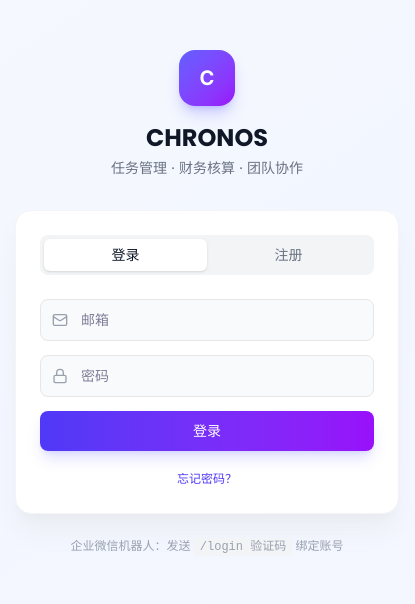
Scenario: LoginPage · 注册模式真实校验 › 用户名单字符 → 拦截
The width and height of the screenshot is (415, 604).
Click the button "注册" at (288, 254), box x1=207 y1=238 x2=370 y2=270
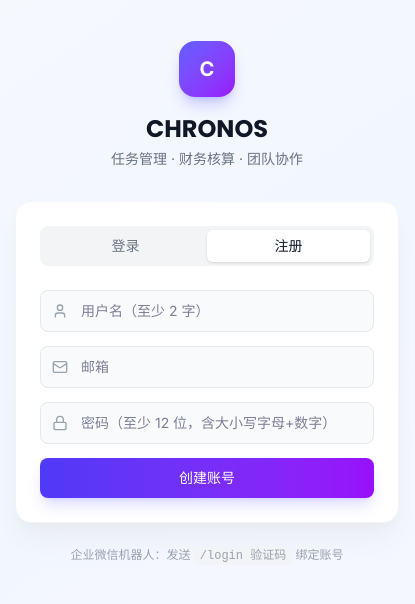
Type "A" into the field with placeholder "用户名（至少 2 字）" at (207, 310), box x1=40 y1=290 x2=374 y2=332
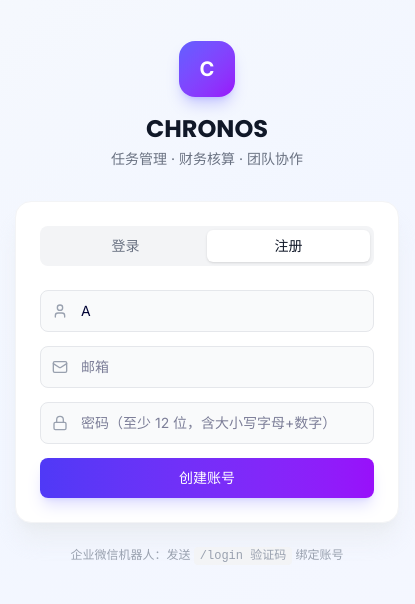
Type "user@example.com" into the field with placeholder "邮箱" at (207, 366), box x1=40 y1=346 x2=374 y2=388
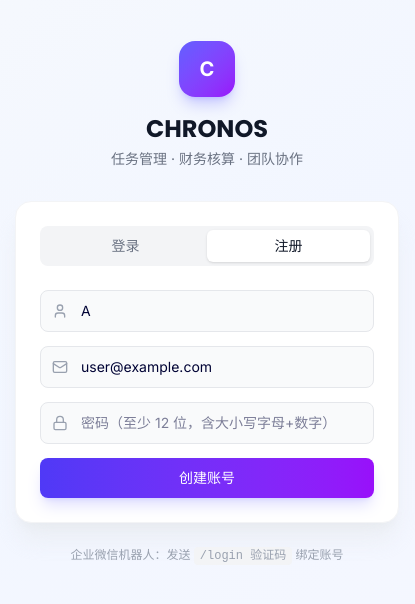
Type "Abcd1234!@kkk" into the password field with placeholder "密码（至少 12 位，含大小写字母+数字）" at (207, 422), box x1=40 y1=402 x2=374 y2=444
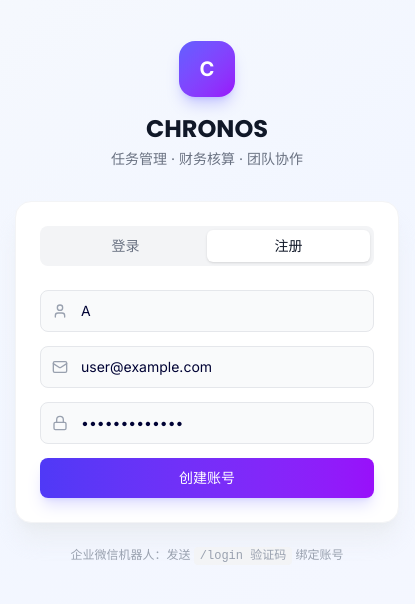
Submit the form, box x1=40 y1=290 x2=374 y2=498
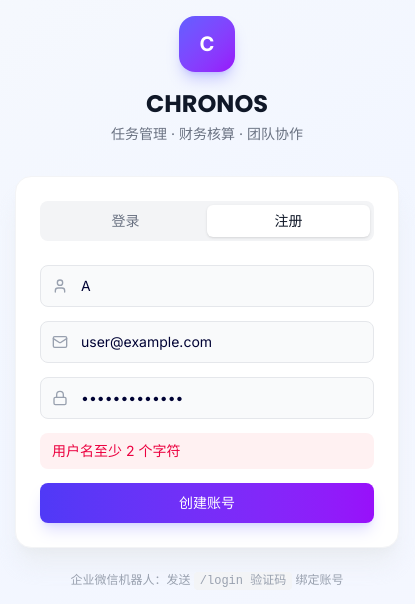
Check: the text "用户名至少 2 个字符" is shown, box x1=52 y1=440 x2=180 y2=460
